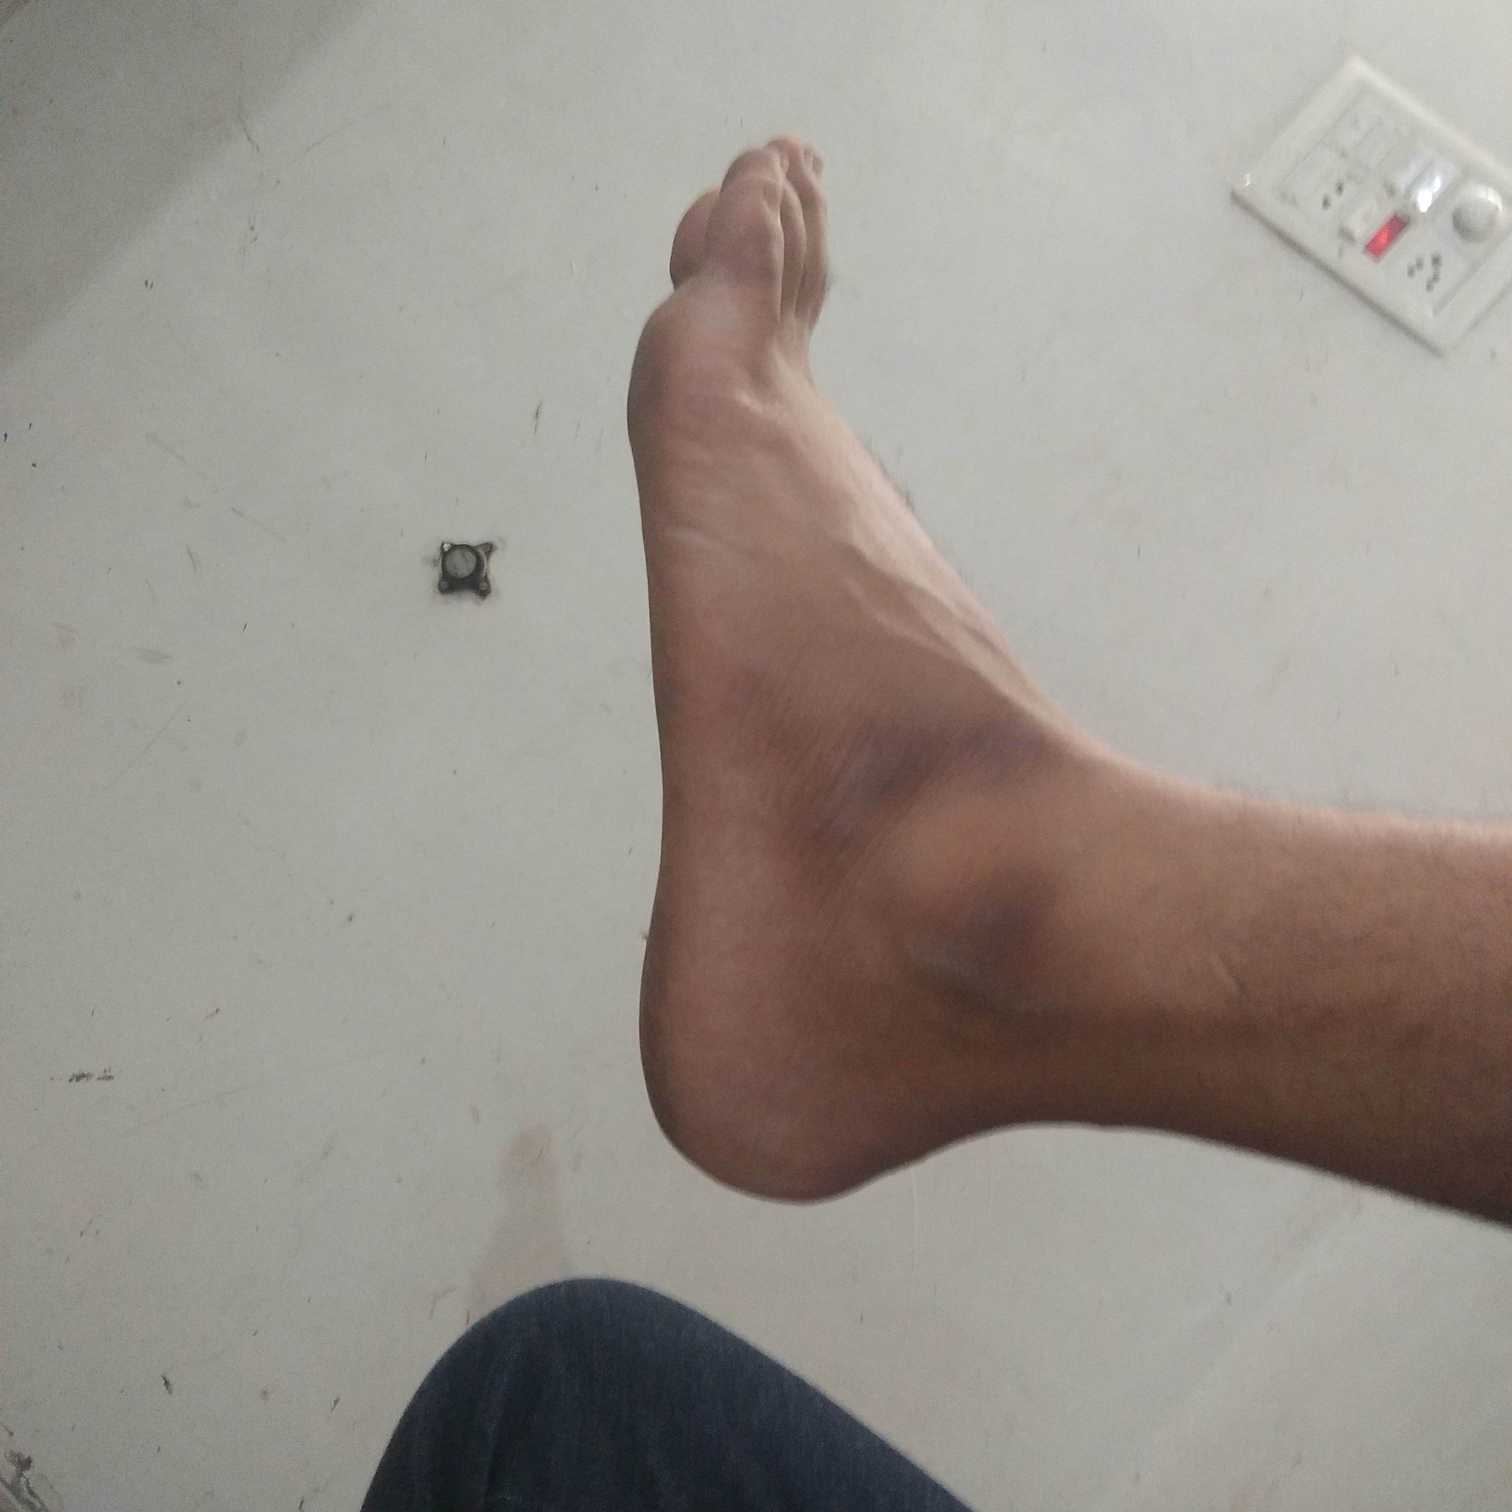foot: (626, 126, 1052, 1210)
